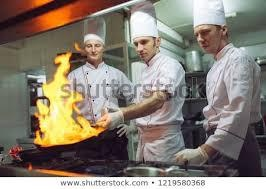fire: (32, 46, 107, 144)
